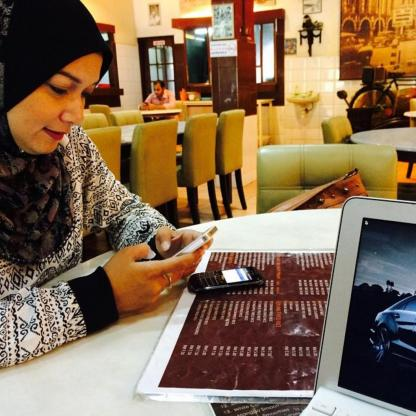board: (299, 197, 415, 416)
